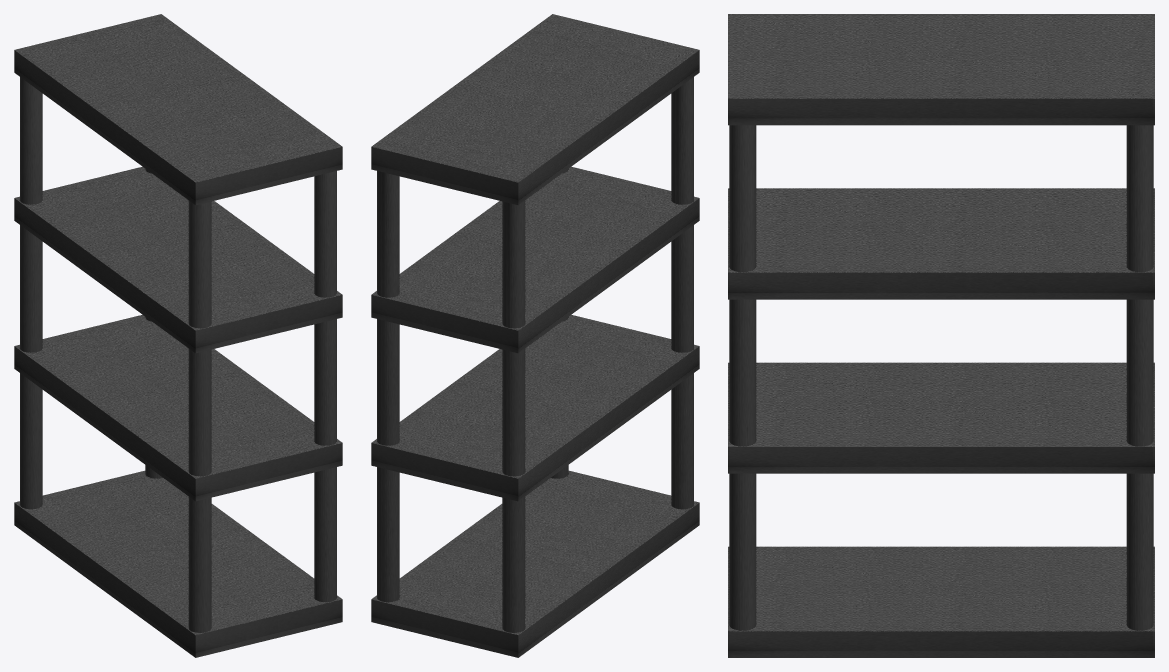
Rendered from estante.obj.
3 views of the same model, side by side, from view 1: azimuth 30°, elevation 25°; view 2: azimuth 150°, elevation 25°; view 3: azimuth 270°, elevation 25° (orthographic). The views are drawn at different scales.
Parts seen in each view (by area): view 1: Cube.003_Cube.006, Cube_Cube.001, Cube.001_Cube.008, Cube.002_Cube.007, Cylinder.003, Cylinder.002, Cylinder; view 2: Cube.003_Cube.006, Cube_Cube.001, Cube.001_Cube.008, Cube.002_Cube.007, Cylinder, Cylinder.001, Cylinder.003; view 3: Cube.003_Cube.006, Cube.002_Cube.007, Cube.001_Cube.008, Cube_Cube.001, Cylinder.001, Cylinder.002.
Part boxes in pixels (x1=…): Cube.003_Cube.006: x1=14, y1=14, x2=342, y2=205; Cube_Cube.001: x1=14, y1=470, x2=342, y2=657; Cube.001_Cube.008: x1=14, y1=314, x2=342, y2=501; Cube.002_Cube.007: x1=14, y1=166, x2=342, y2=353; Cylinder.003: x1=188, y1=200, x2=211, y2=632; Cylinder.002: x1=314, y1=171, x2=336, y2=602; Cylinder: x1=20, y1=77, x2=42, y2=509; Cube.003_Cube.006: x1=371, y1=14, x2=699, y2=205; Cube_Cube.001: x1=371, y1=470, x2=699, y2=657; Cube.001_Cube.008: x1=371, y1=314, x2=699, y2=501; Cube.002_Cube.007: x1=371, y1=166, x2=699, y2=353; Cylinder: x1=502, y1=200, x2=525, y2=632; Cylinder.001: x1=377, y1=171, x2=399, y2=602; Cylinder.003: x1=671, y1=77, x2=693, y2=509; Cube.003_Cube.006: x1=728, y1=14, x2=1154, y2=125; Cube.002_Cube.007: x1=728, y1=188, x2=1154, y2=299; Cube.001_Cube.008: x1=728, y1=362, x2=1154, y2=473; Cube_Cube.001: x1=728, y1=546, x2=1154, y2=657; Cylinder.001: x1=1126, y1=125, x2=1153, y2=630; Cylinder.002: x1=729, y1=125, x2=756, y2=630.
Bounding box in the file's own units: 3.12 × 9.63 × 6.66.
9 materials, 9 textured.
